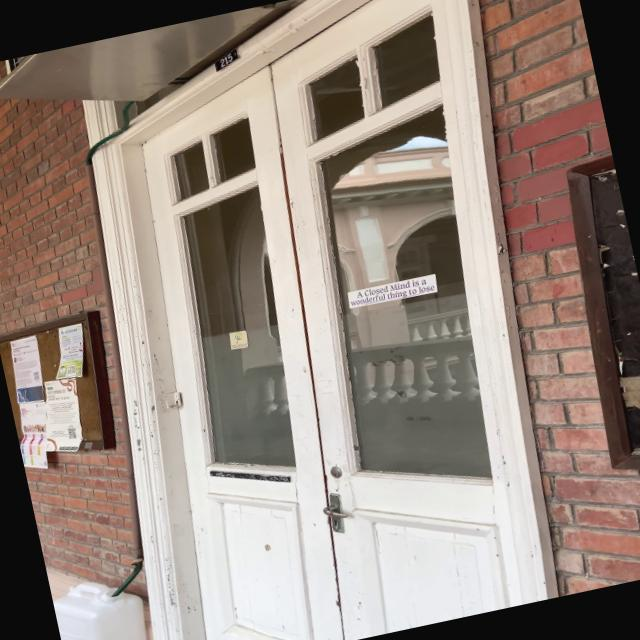room215: (212, 48, 240, 72)
